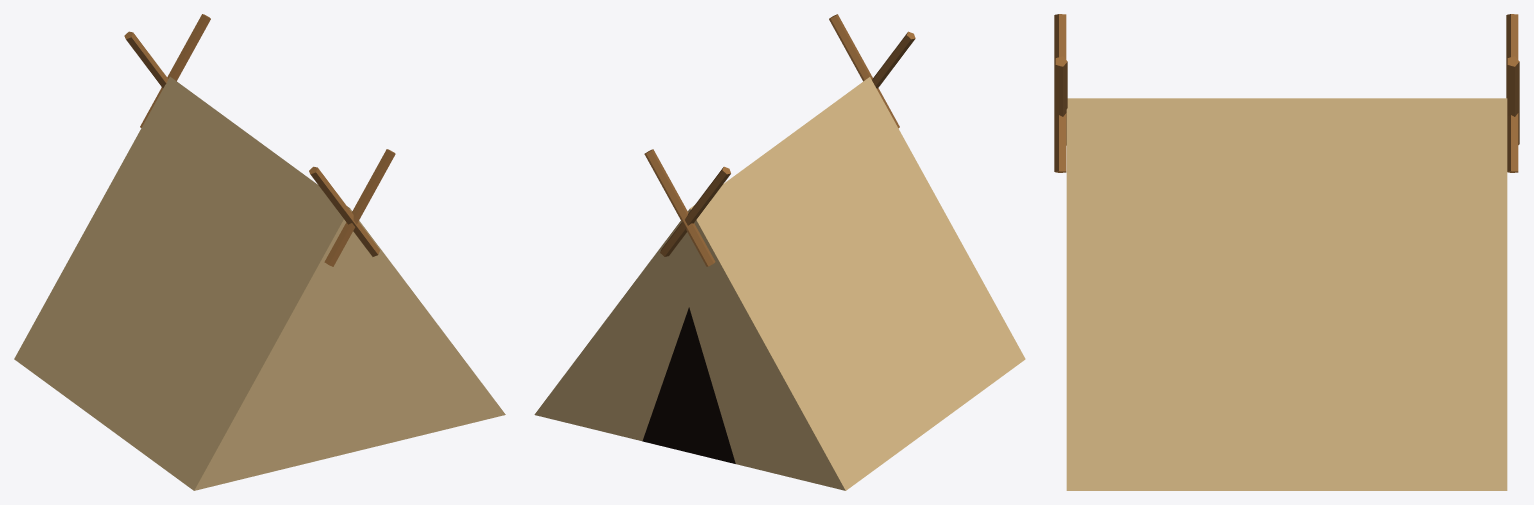
Rendered from tent.glb.
3 views of the same model, side by side, from view 1: azimuth 30°, elevation 25°; view 2: azimuth 150°, elevation 25°; view 3: azimuth 270°, elevation 25° (orthographic). The views are drawn at different scales.
Parts seen in each view (by area): view 1: tent; view 2: tent; view 3: tent.
Part boxes in pixels (x1,y1,x2,y2): tent: (14,14,505,490); tent: (534,14,1025,490); tent: (1054,14,1519,490).
Bounding box in the file's own units: 4 × 3.63 × 4.22.
